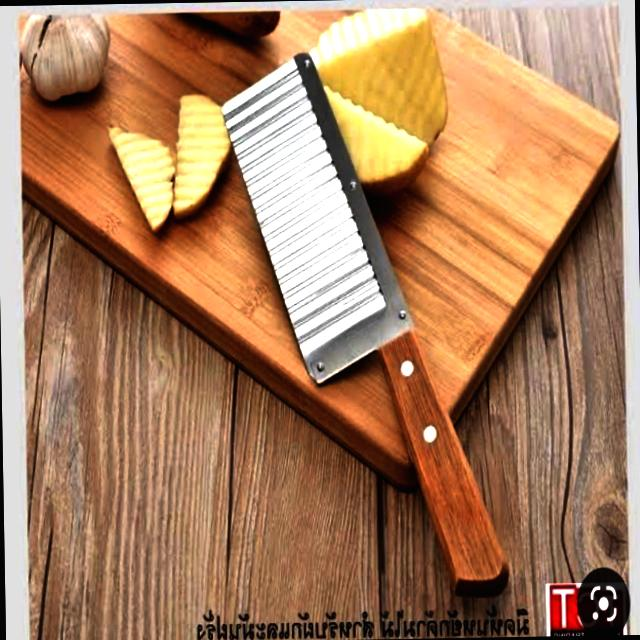knife: (211, 42, 518, 604)
